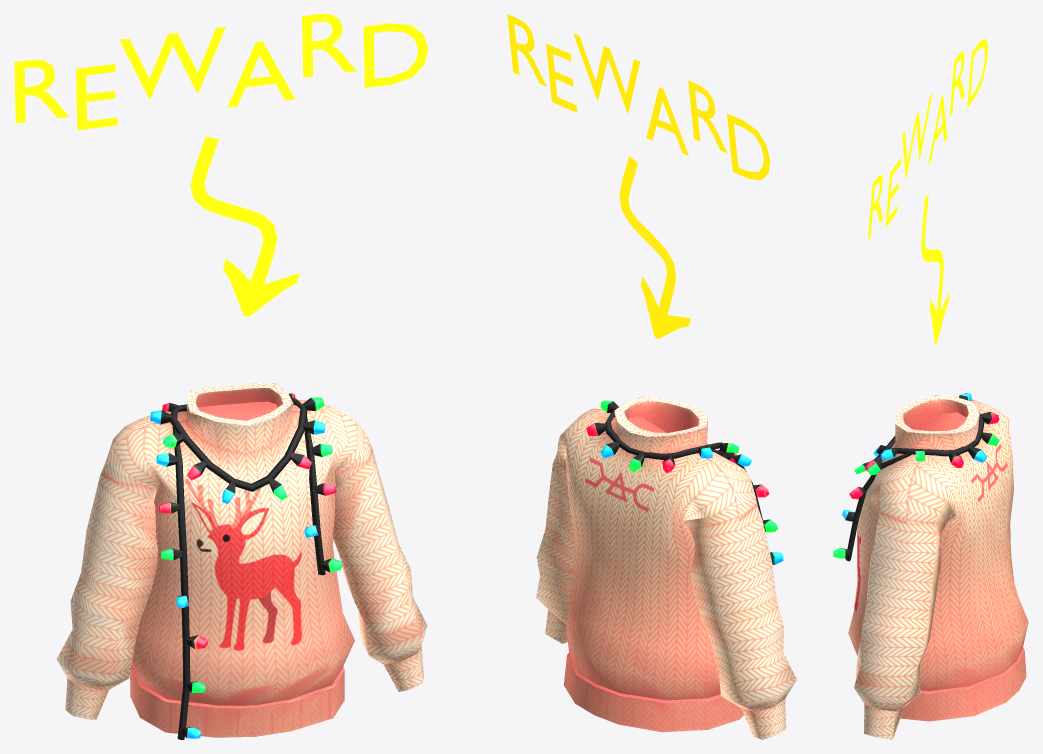
Rendered from obj_reward.gltf.
The picture shows the model from 3 angles, left to right: view 1: azimuth 30°, elevation 25°; view 2: azimuth 150°, elevation 25°; view 3: azimuth 270°, elevation 25°; orthographic projection. The views are drawn at different scales.
Parts seen in each view (by area): view 1: obj_reward, obj_reward_text; view 2: obj_reward, obj_reward_text; view 3: obj_reward, obj_reward_text.
Boxes of the visible parts, x1=… form: obj_reward: x1=56, y1=383, x2=427, y2=739; obj_reward_text: x1=14, y1=14, x2=428, y2=316; obj_reward: x1=536, y1=396, x2=796, y2=739; obj_reward_text: x1=507, y1=14, x2=769, y2=338; obj_reward: x1=833, y1=393, x2=1028, y2=739; obj_reward_text: x1=868, y1=38, x2=987, y2=344.
Size of what is drawn, in the model's own units: 1.05 by 1.74 by 0.5073.
2 materials, 1 textured.
